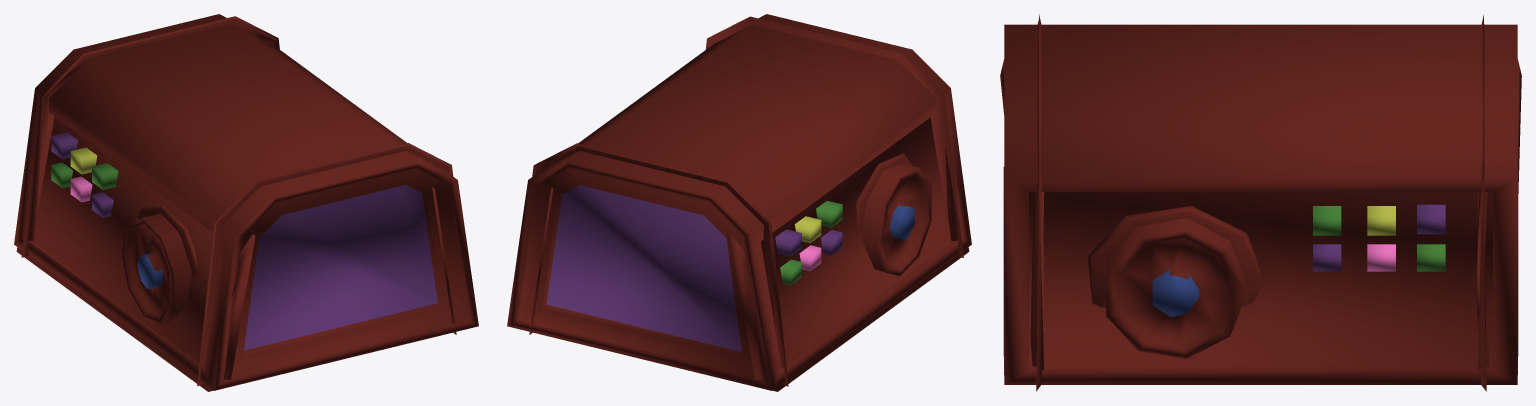
File: generator.fbx
3 renders of one model, left to right at view 1: azimuth 30°, elevation 25°; view 2: azimuth 150°, elevation 25°; view 3: azimuth 270°, elevation 25°, orthographic. The views are drawn at different scales.
Visible parts, largest first — view 1: Cube; view 2: Cube; view 3: Cube.
Boxes of the visible parts, x1,y1,x2,y2 form: Cube: (14,14,478,391); Cube: (507,14,971,391); Cube: (1000,14,1521,391).
Size of the model in its own units: 158 by 105 by 203.
